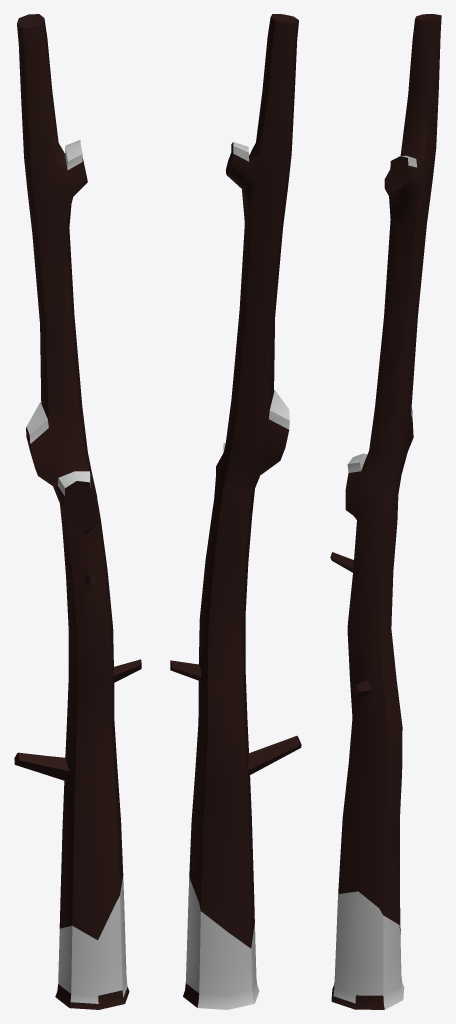
File: CommonTree_Dead_Snow_3.017.fbx
3 views of the same model, side by side, from view 1: azimuth 30°, elevation 25°; view 2: azimuth 210°, elevation 25°; view 3: azimuth 270°, elevation 25° (orthographic). The views are drawn at different scales.
Parts seen in each view (by area): view 1: CommonTree_Dead_Snow_3.017; view 2: CommonTree_Dead_Snow_3.017; view 3: CommonTree_Dead_Snow_3.017.
Boxes of the visible parts, x1=… form: CommonTree_Dead_Snow_3.017: x1=14, y1=14, x2=141, y2=1009; CommonTree_Dead_Snow_3.017: x1=170, y1=14, x2=301, y2=1009; CommonTree_Dead_Snow_3.017: x1=330, y1=14, x2=441, y2=1009.
Bounding box in the file's own units: 310 × 281 × 2700.
